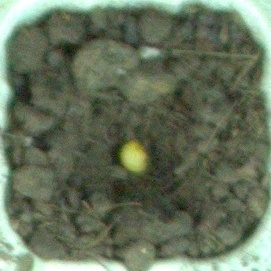pepper seed: (41, 51, 194, 227)
